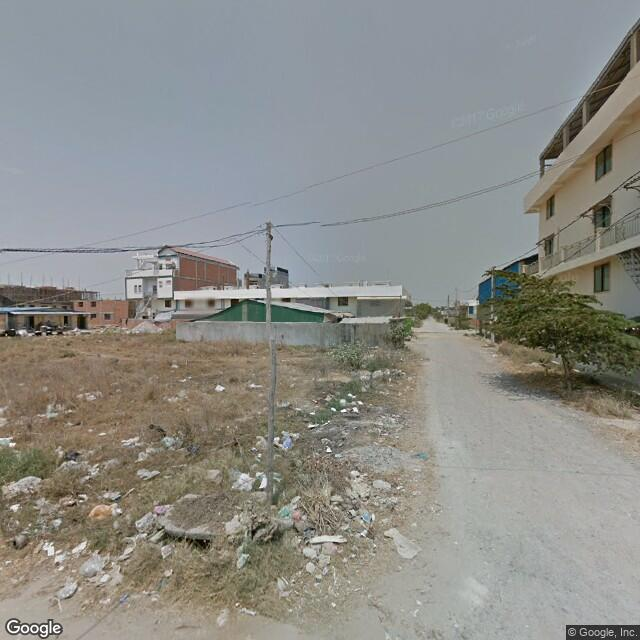litter: (223, 512, 256, 557), (60, 443, 99, 478), (379, 528, 426, 557), (77, 559, 121, 586), (1, 471, 51, 491), (86, 505, 128, 528), (275, 498, 302, 531), (133, 433, 186, 447), (233, 475, 275, 491), (4, 531, 37, 550), (59, 583, 81, 606), (312, 532, 347, 546), (275, 430, 299, 450), (160, 540, 176, 570), (137, 470, 161, 481), (120, 436, 142, 445), (215, 381, 228, 394), (248, 381, 262, 388)
